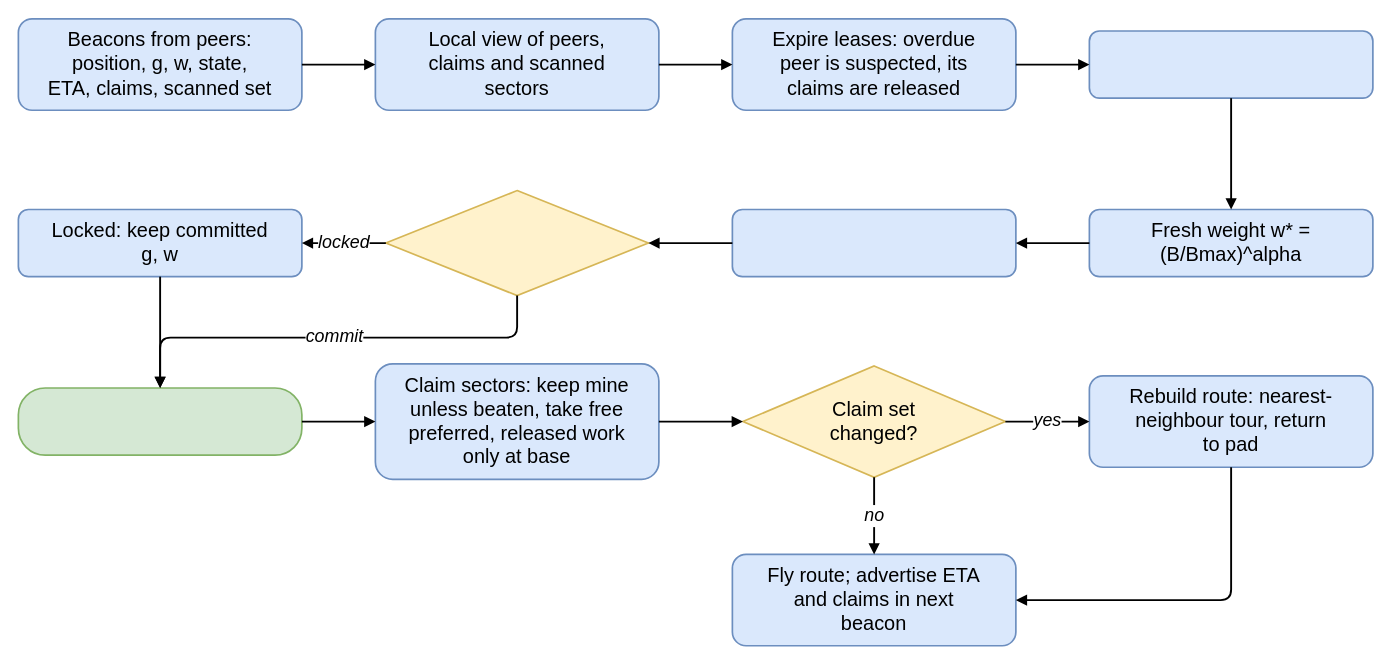
Some shapes in this 1392 by 665 pixel diagram are drawn without their labels. Each missing label, with the box of its shape:
Commit: g = C*, w = w*: (17, 387, 302, 455)
EW-CVT centroid C* over peers believed active: (731, 208, 1016, 277)
Hysteresis gate: (385, 189, 649, 296)
Read own battery B (with sensor noise): (1088, 30, 1373, 98)
